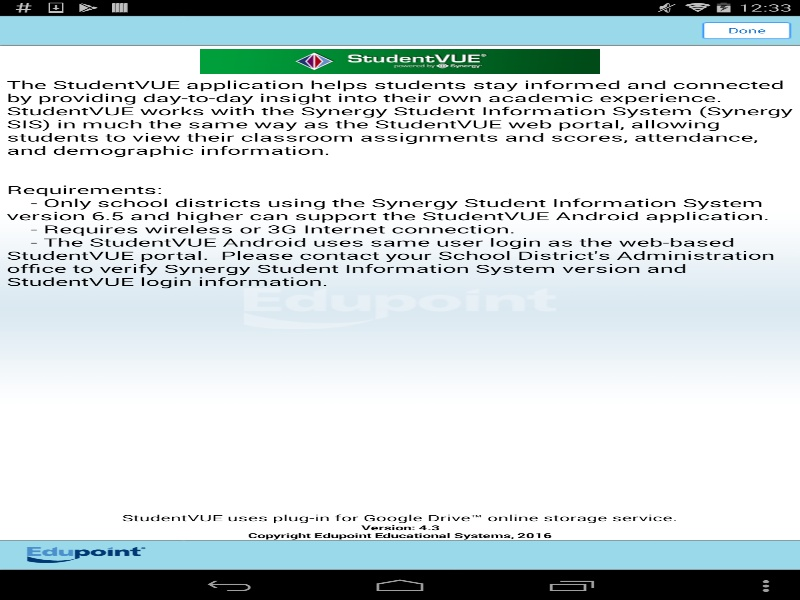Button: (700, 21, 793, 39)
Input: (6, 76, 793, 511), (0, 522, 800, 540)
